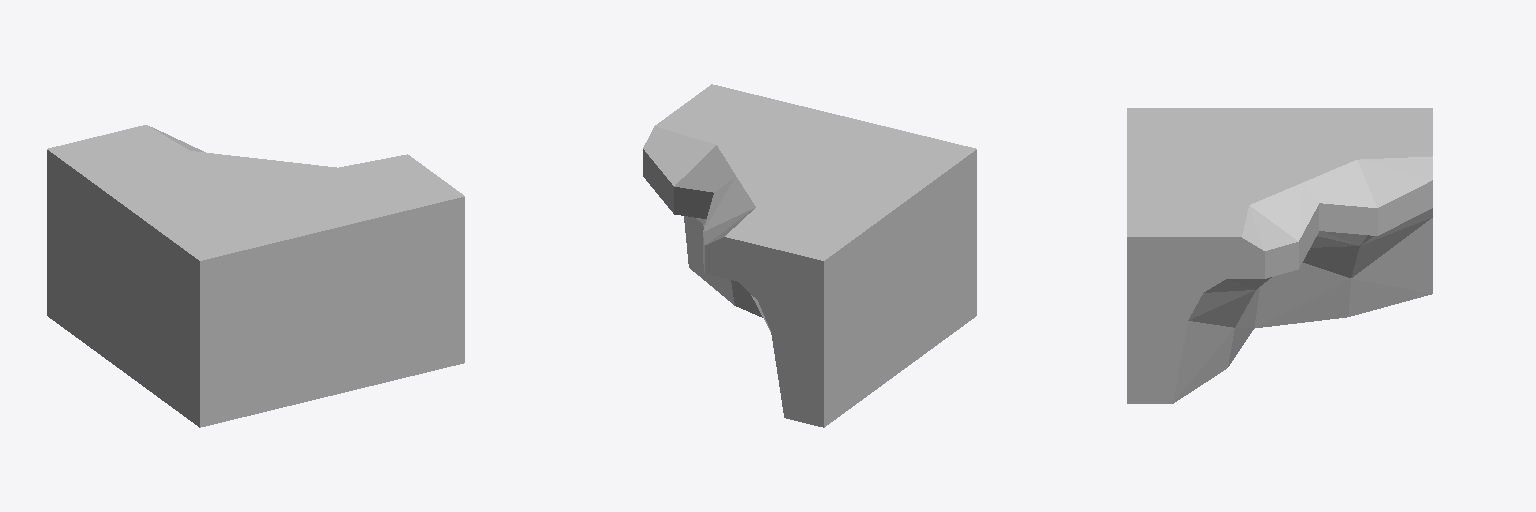
File: Cliff_Top_Corner_Inner_Lg.obj
3 renders of one model, left to right at view 1: azimuth 30°, elevation 25°; view 2: azimuth 150°, elevation 25°; view 3: azimuth 270°, elevation 25°, orthographic.
Parts seen in each view (by area): view 1: object1; view 2: object1; view 3: object1.
Boxes of the visible parts, <box> form: object1: <box>47,125,464,427</box>; object1: <box>643,84,976,427</box>; object1: <box>1127,108,1432,403</box>.
Size of the model in its own units: 2 by 1.2 by 2.